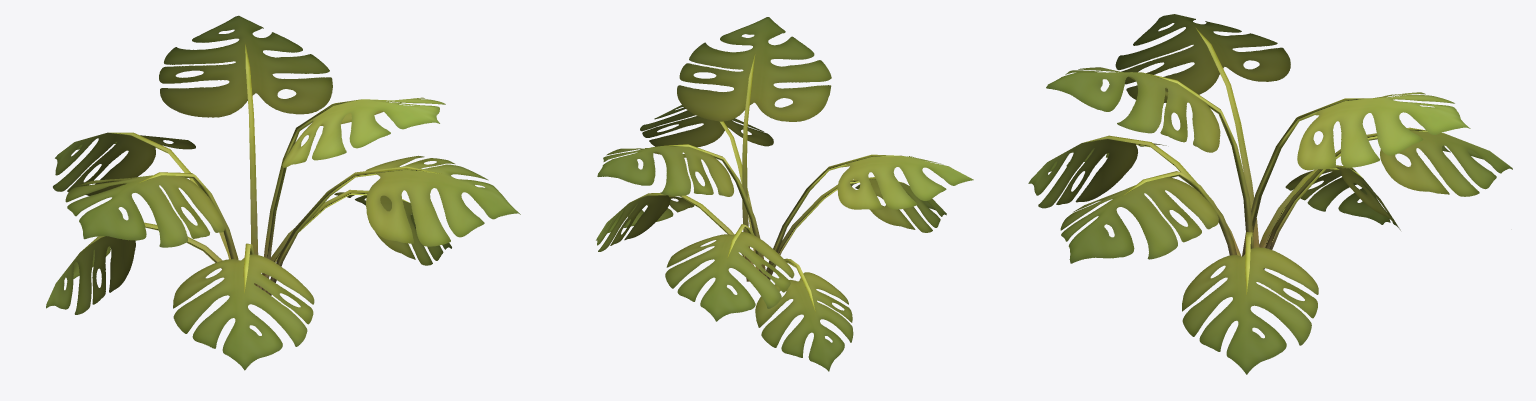
File: monstera 02_lod1.obj
The picture shows the model from 3 angles, left to right: view 1: azimuth 30°, elevation 25°; view 2: azimuth 150°, elevation 25°; view 3: azimuth 270°, elevation 25°; orthographic projection. The views are drawn at different scales.
Parts seen in each view (by area): view 1: tree; view 2: tree; view 3: tree.
Part boxes in pixels (box(x1,y1,x2,y2)): tree: box(46, 15, 520, 370); tree: box(596, 17, 973, 371); tree: box(1028, 14, 1512, 374).
Bounding box in the file's own units: 143 × 80.64 × 131.
